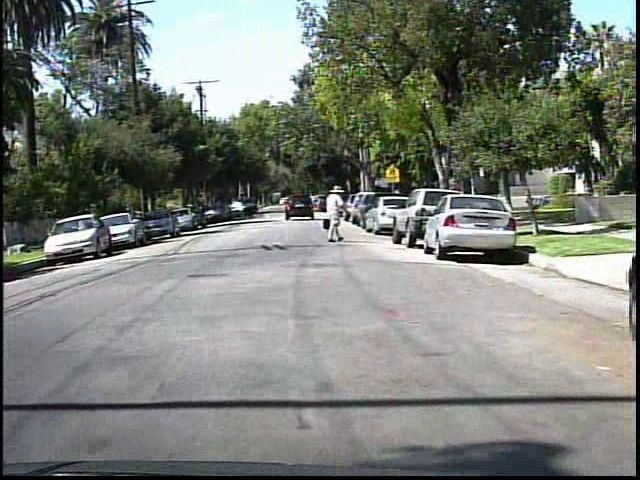person: (318, 184, 351, 244)
